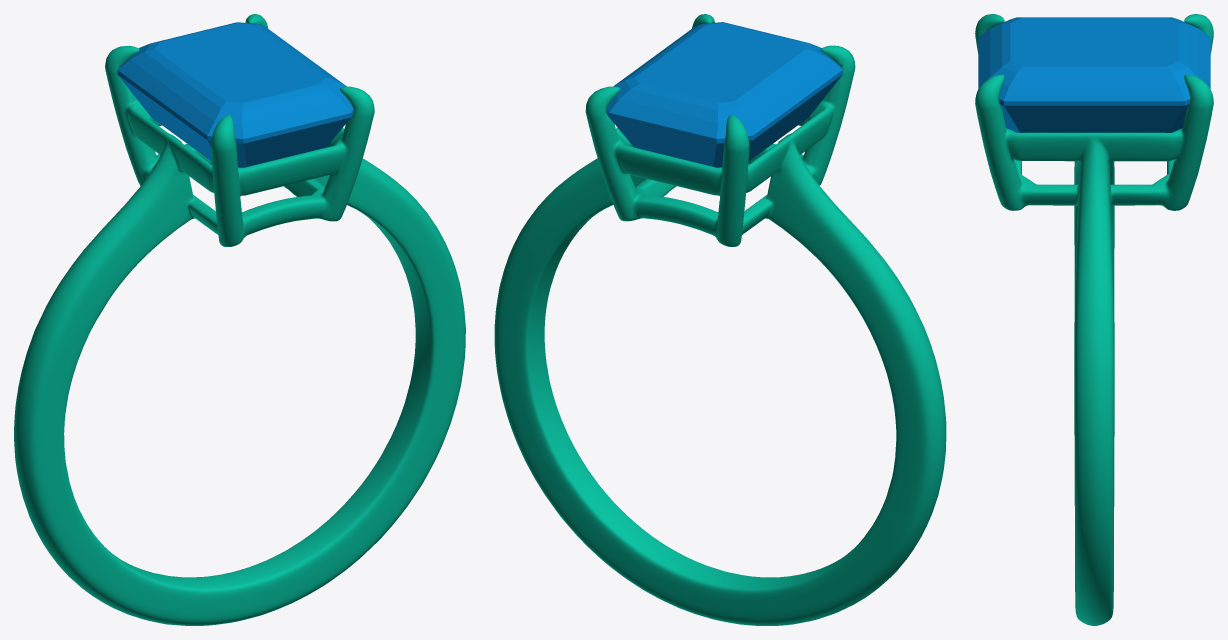
The model's file is BE1D332_EM_200ct_RENDER.glb.
The picture shows the model from 3 angles, left to right: view 1: azimuth 30°, elevation 25°; view 2: azimuth 150°, elevation 25°; view 3: azimuth 270°, elevation 25°; orthographic projection.
Visible parts, largest first — view 1: Metal 01, CS_Diamond_Emerald; view 2: Metal 01, CS_Diamond_Emerald; view 3: Metal 01, CS_Diamond_Emerald.
Boxes of the visible parts, x1,y1,x2,y2 form: Metal 01: (14,14,465,625); CS_Diamond_Emerald: (117,22,353,167); Metal 01: (494,14,946,625); CS_Diamond_Emerald: (606,22,842,167); Metal 01: (975,14,1213,625); CS_Diamond_Emerald: (978,17,1210,132).
Size of the model in its own units: 20.11 by 23.94 by 9.26.
